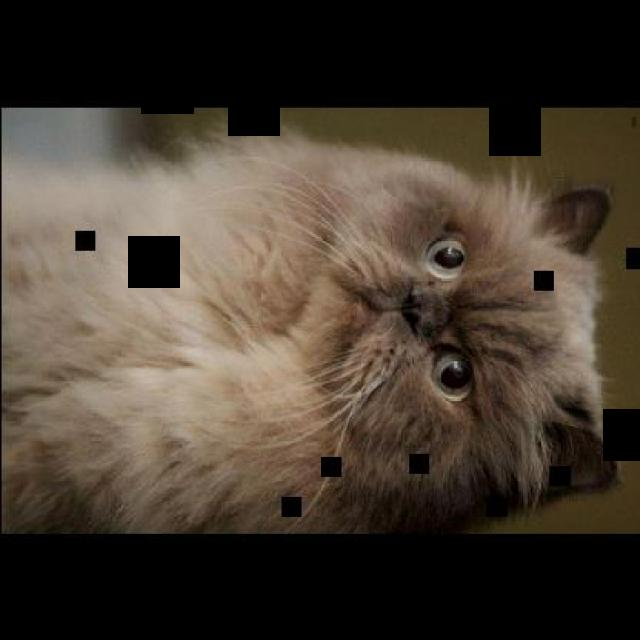unauthorized: (0, 109, 620, 534)
